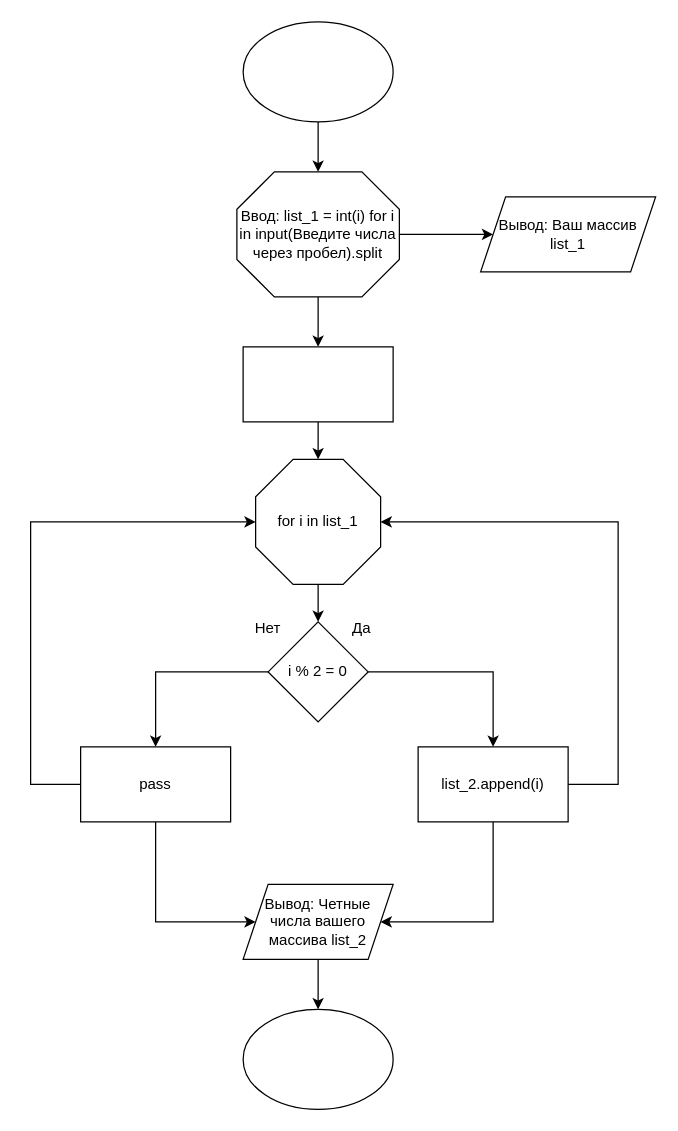
Image size: 678x1131. Some labels were removed from this diagram. Each missing label, with the centre of its shape:
list_2 = []: the point at 317,384
Конец: the point at 317,1058
Начало: the point at 317,71
